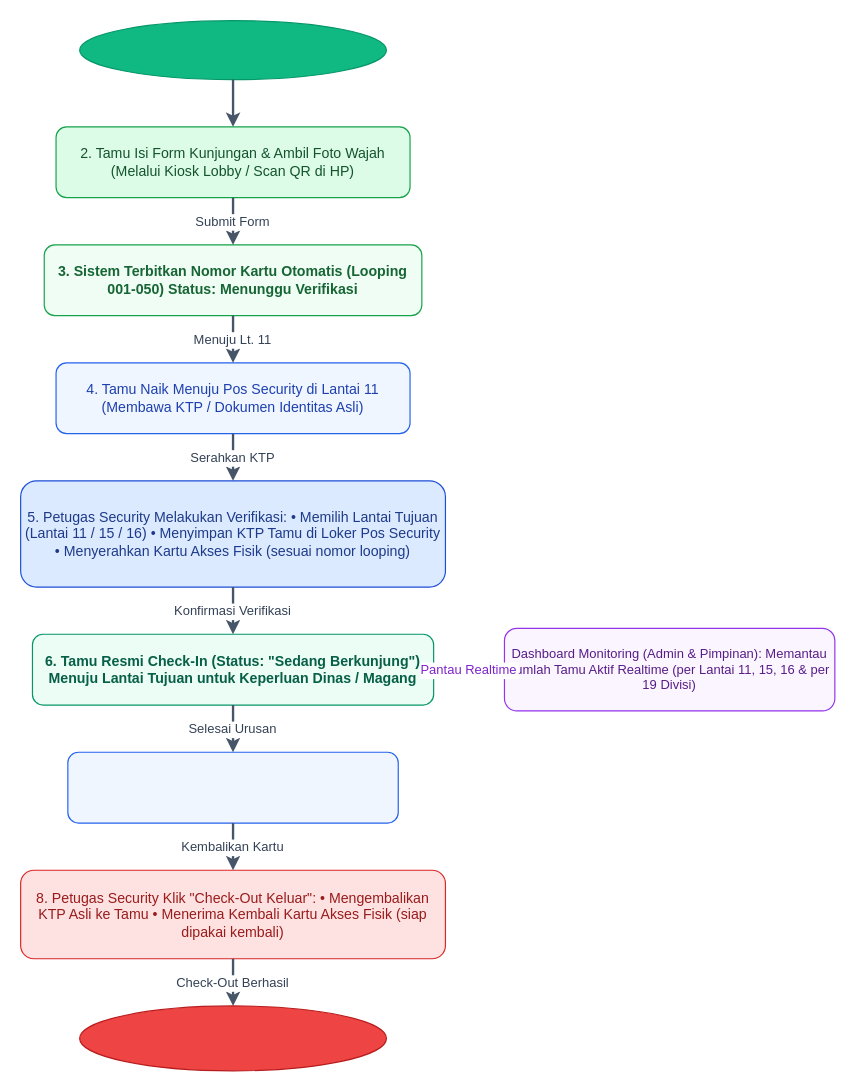
The diagram is 855 pixels wide and 1092 high, and some of its shapes have lost their labels. The box of each missing label's shape, as (x1, y1, x2, y2) in pixels:
1. Tamu Tiba di Lobby Gedung: (78, 19, 386, 80)
7. Kunjungan Selesai: Tamu Kembali ke Pos Security Lantai 11: (67, 751, 398, 823)
9. Tamu Meninggalkan Gedung (Status: "Sudah Keluar" - Selesai): (78, 1005, 386, 1071)
